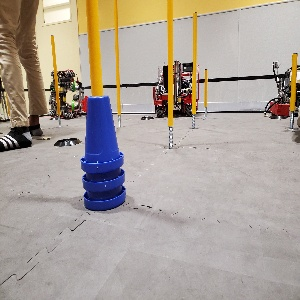Blue_3: (80, 95, 125, 211)
